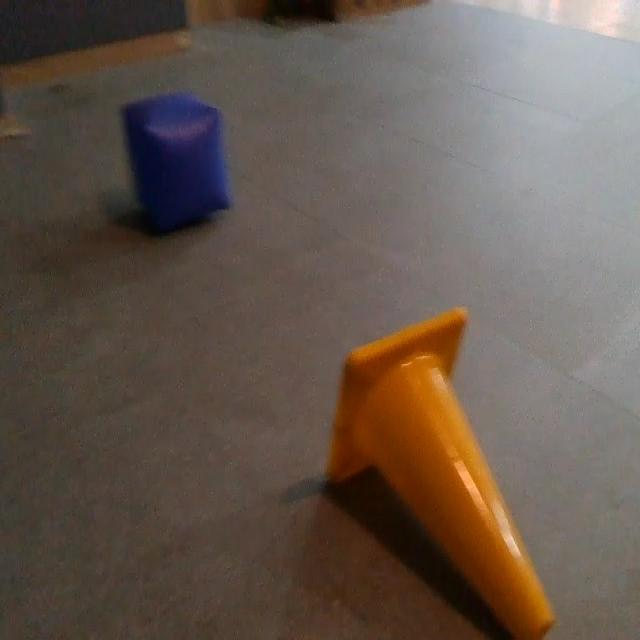cone: (322, 298, 556, 640)
cube: (119, 95, 238, 235)
